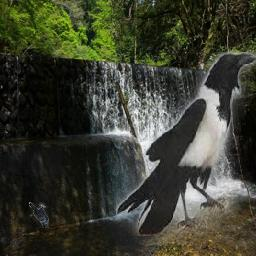Crow: (116, 52, 256, 236), (29, 202, 49, 228)
